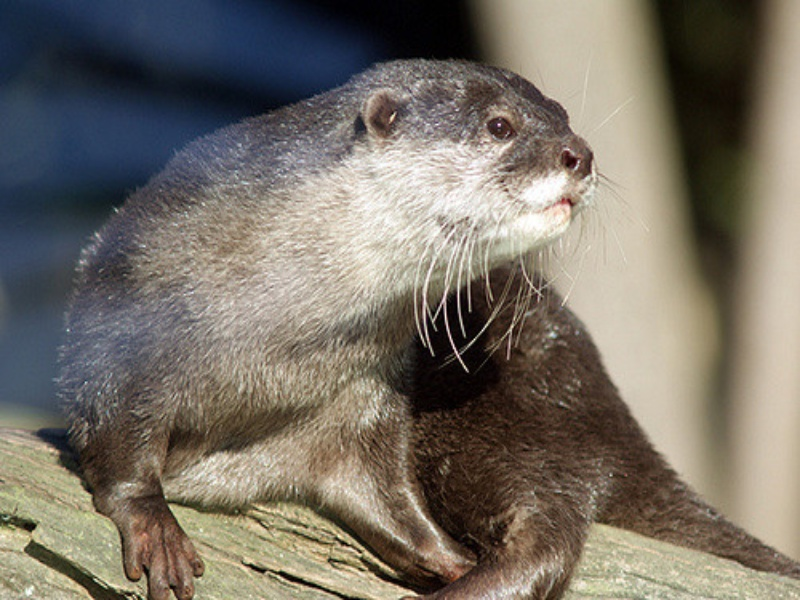minkish: (49, 44, 787, 592)
